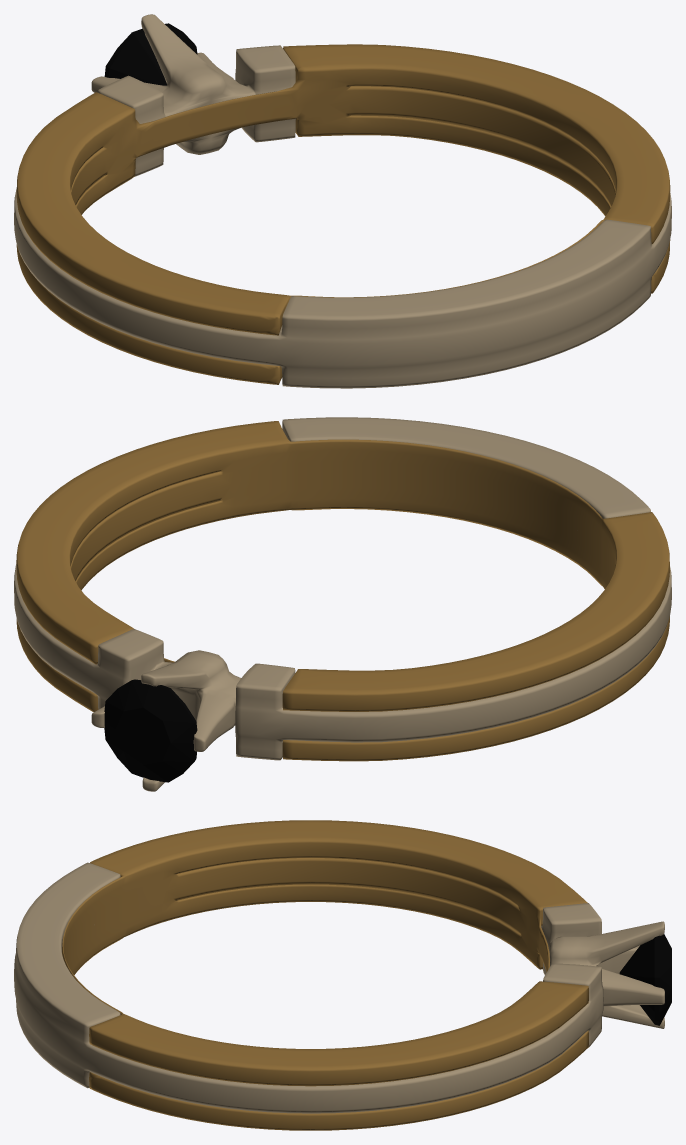
Rendered from DIAMOND_RING_FBX.FBX.
3 views of the same model, one above another, from view 1: azimuth 30°, elevation 25°; view 2: azimuth 150°, elevation 25°; view 3: azimuth 270°, elevation 25° (orthographic). The views are drawn at different scales.
Parts seen in each view (by area): view 1: Object01, Cylinder03, Cylinder02; view 2: Object01, Cylinder03, Cylinder02; view 3: Object01, Cylinder03, Cylinder02.
Part boxes in pixels (box(x1,y1,x2,y2)): Object01: box(16, 44, 670, 384); Cylinder03: box(14, 14, 671, 388); Cylinder02: box(104, 23, 197, 85); Object01: box(16, 421, 669, 761); Cylinder03: box(14, 417, 671, 791); Cylinder02: box(104, 679, 197, 782); Object01: box(62, 820, 588, 1130); Cylinder03: box(14, 862, 664, 1113); Cylinder02: box(619, 934, 671, 1025).
Bounding box in the file's own units: 47.85 × 9.33 × 52.93.
